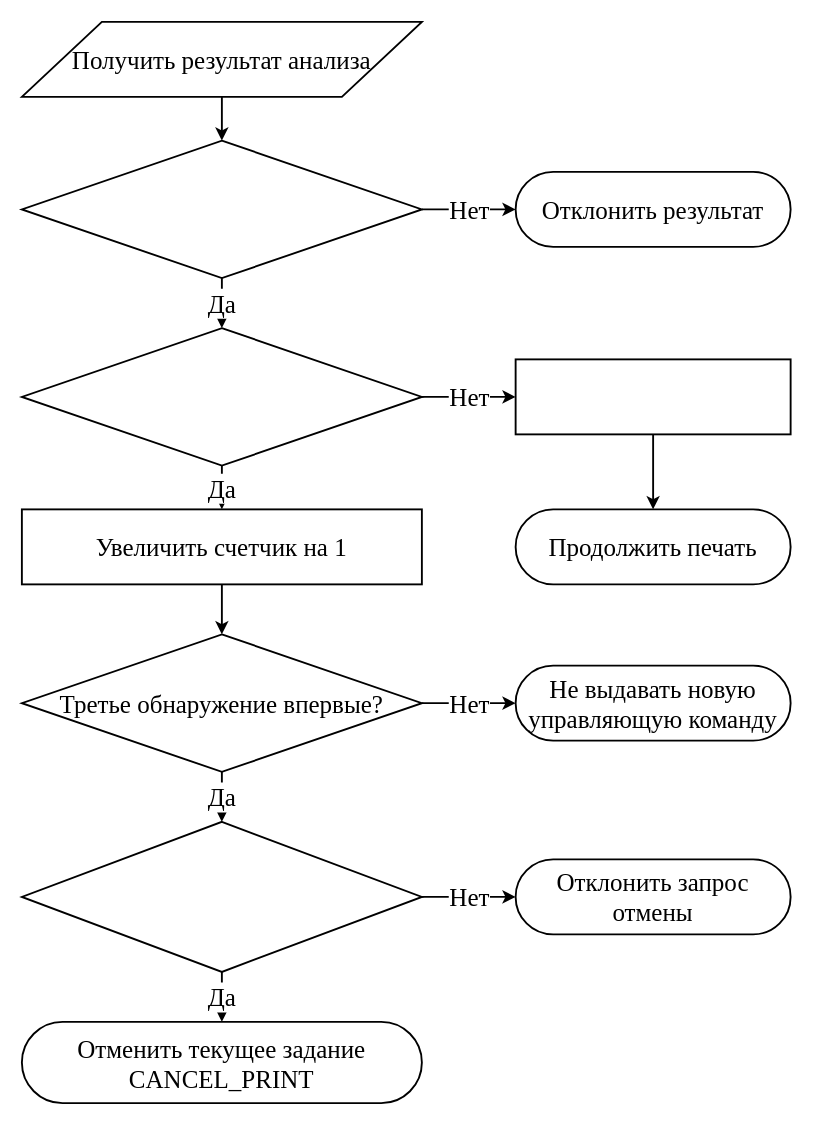
The diagram is 814 pixels wide and 1126 high, and some of its shapes have lost their labels. Each missing label, with the centre of its shape:
Подтвержден дефект «спагетти»?: point (221, 396)
Сбросить счетчик: значение = 0: point (652, 396)
Сессия и кадр допустимы?: point (221, 208)
Та же сессия по-прежнему активна?: point (221, 896)
